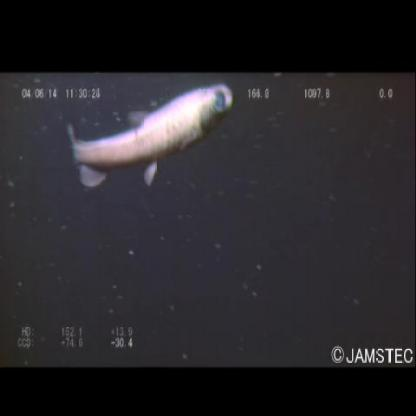Bio: (63, 80, 235, 193)
